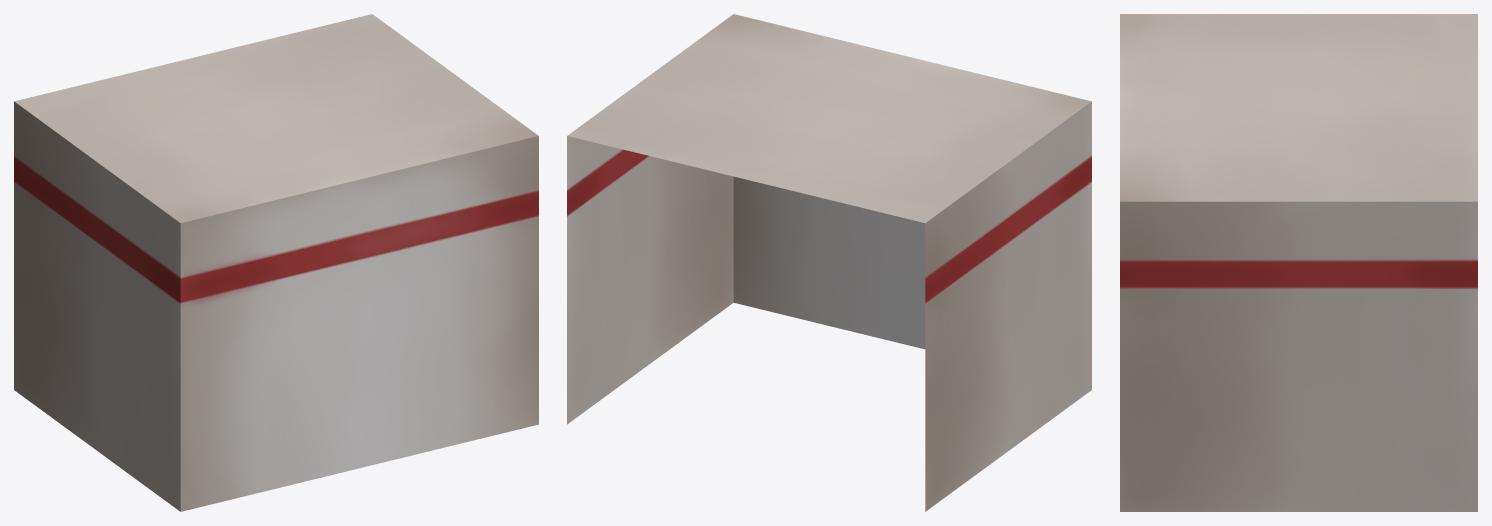
File: SM_PIPETTETIB_red.FBX
3 views of the same model, side by side, from view 1: azimuth 30°, elevation 25°; view 2: azimuth 150°, elevation 25°; view 3: azimuth 270°, elevation 25° (orthographic). The views are drawn at different scales.
Parts seen in each view (by area): view 1: PIPETTETIB_red; view 2: PIPETTETIB_red; view 3: PIPETTETIB_red.
Part boxes in pixels (x1,y1,x2,y2): PIPETTETIB_red: [14, 14, 538, 511]; PIPETTETIB_red: [567, 14, 1091, 511]; PIPETTETIB_red: [1120, 14, 1477, 511].
Size of the model in its own units: 57.27 by 44.12 by 46.12.
Materials: 1 (1 with a texture image).
